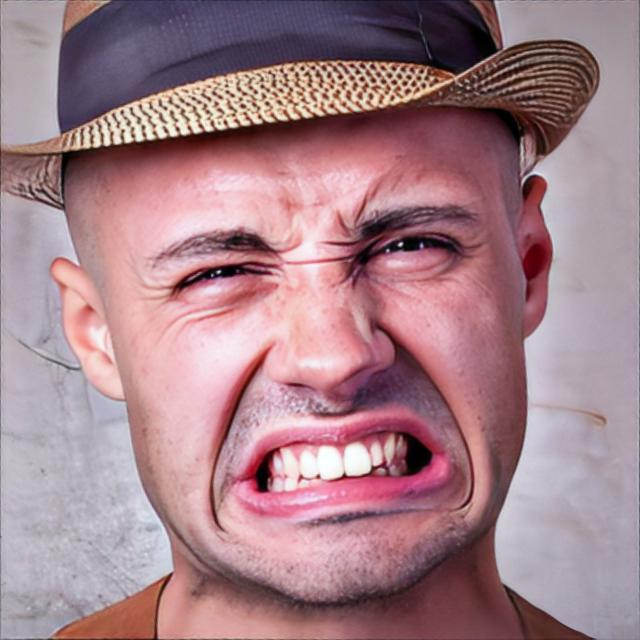disgust: (62, 97, 526, 608)
